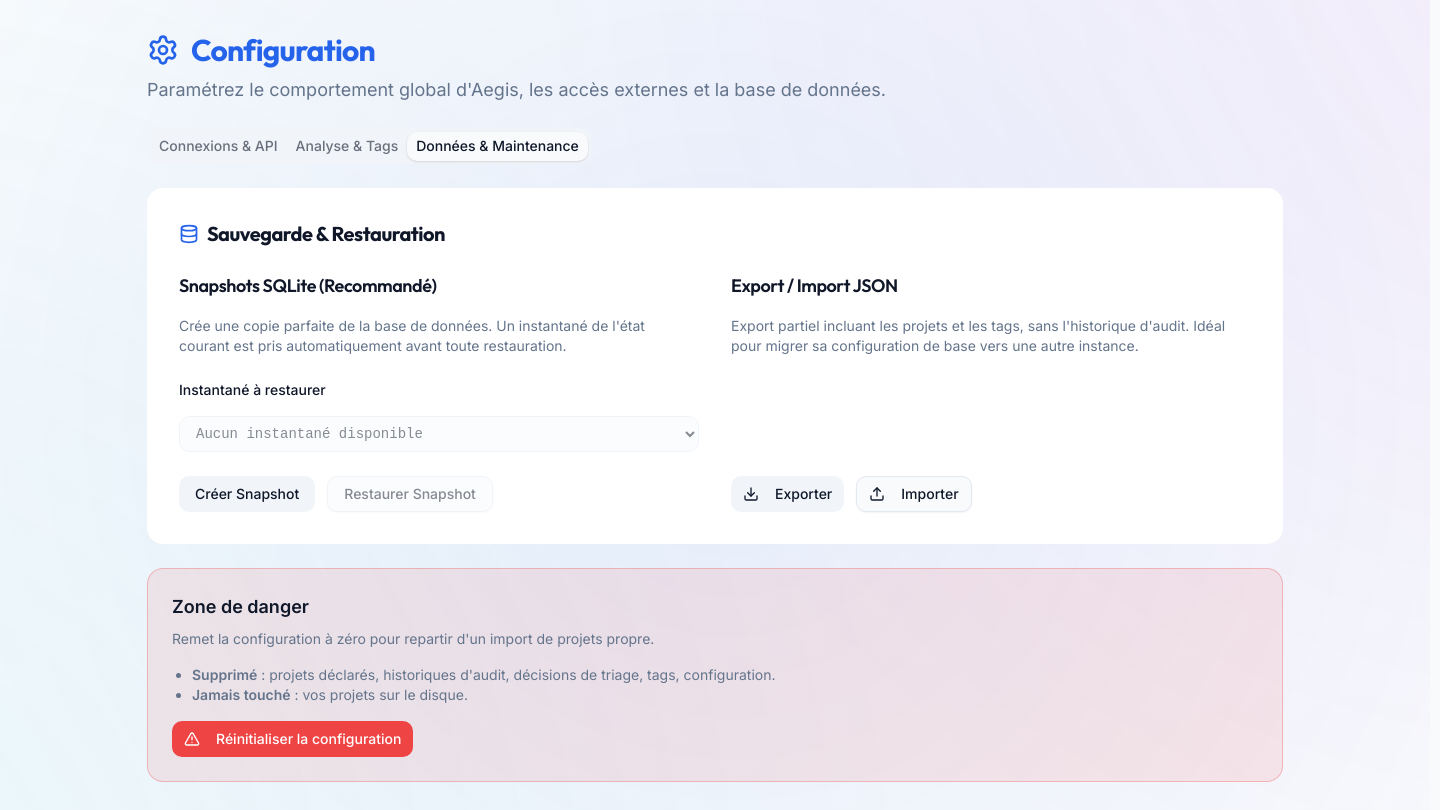
Settings — remise à zéro › annuler ne déclenche aucun appel
Step 1. Click the button "Réinitialiser la configuration" → click(293, 739), box 172,721 -> 413,757
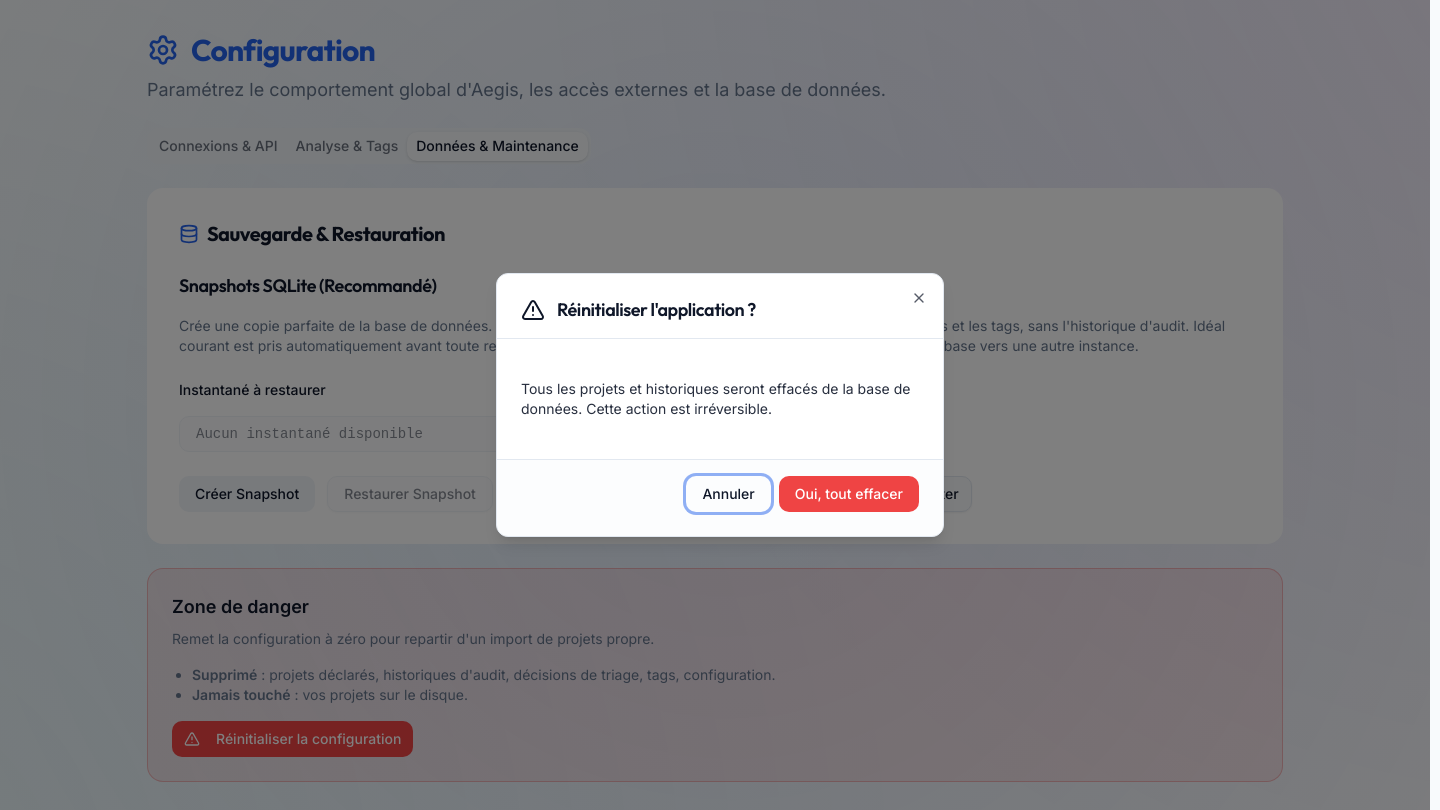
Expected: the dialog is shown, 496,273 -> 944,537
Step 2. Click the button "Annuler" → click(729, 494), box 686,476 -> 771,512
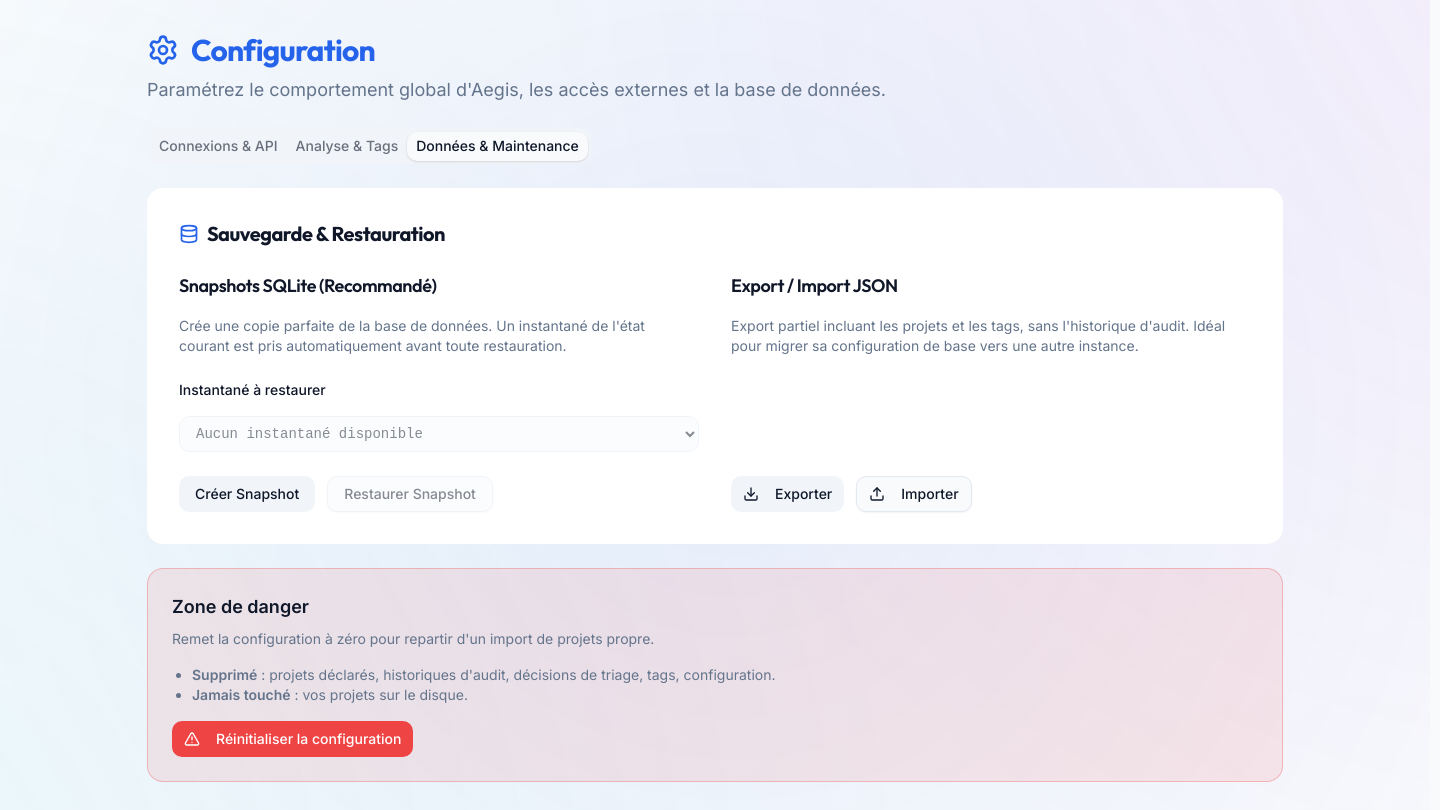
Expected: no dialogs are shown
